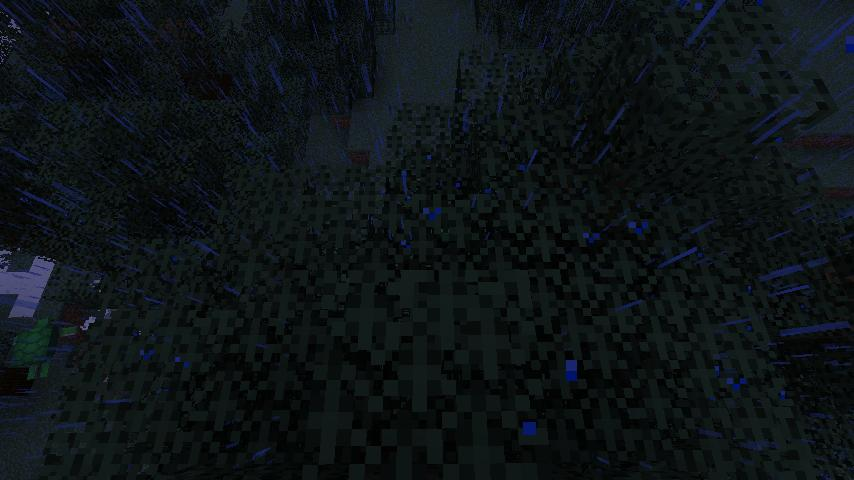turtle: (7, 316, 81, 381)
